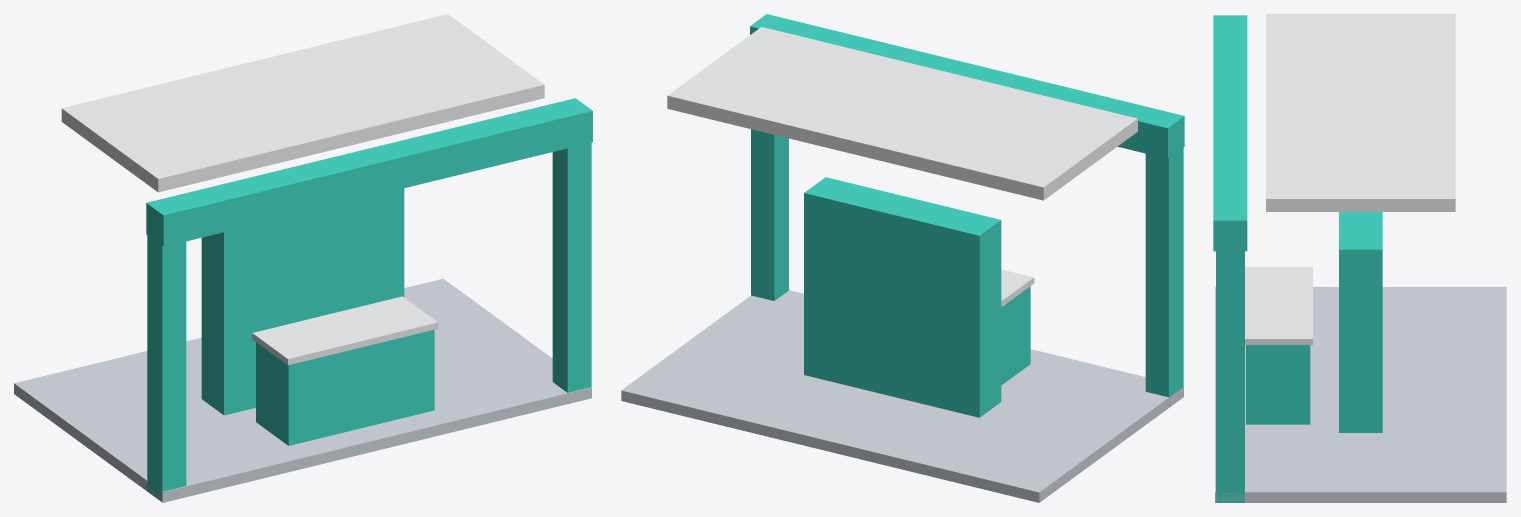
The picture shows the model from 3 angles, left to right: view 1: azimuth 30°, elevation 25°; view 2: azimuth 150°, elevation 25°; view 3: azimuth 270°, elevation 25°; orthographic projection. The views are drawn at different scales.
Visible parts, largest first — view 1: Exhibition Booth Concept; view 2: Exhibition Booth Concept; view 3: Exhibition Booth Concept.
Part boxes in pixels (box(x1,y1,x2,y2)): Exhibition Booth Concept: box(14, 14, 592, 502); Exhibition Booth Concept: box(621, 14, 1184, 502); Exhibition Booth Concept: box(1213, 14, 1506, 502).
Size of the model in its own units: 5 by 3.34 by 3.01.
